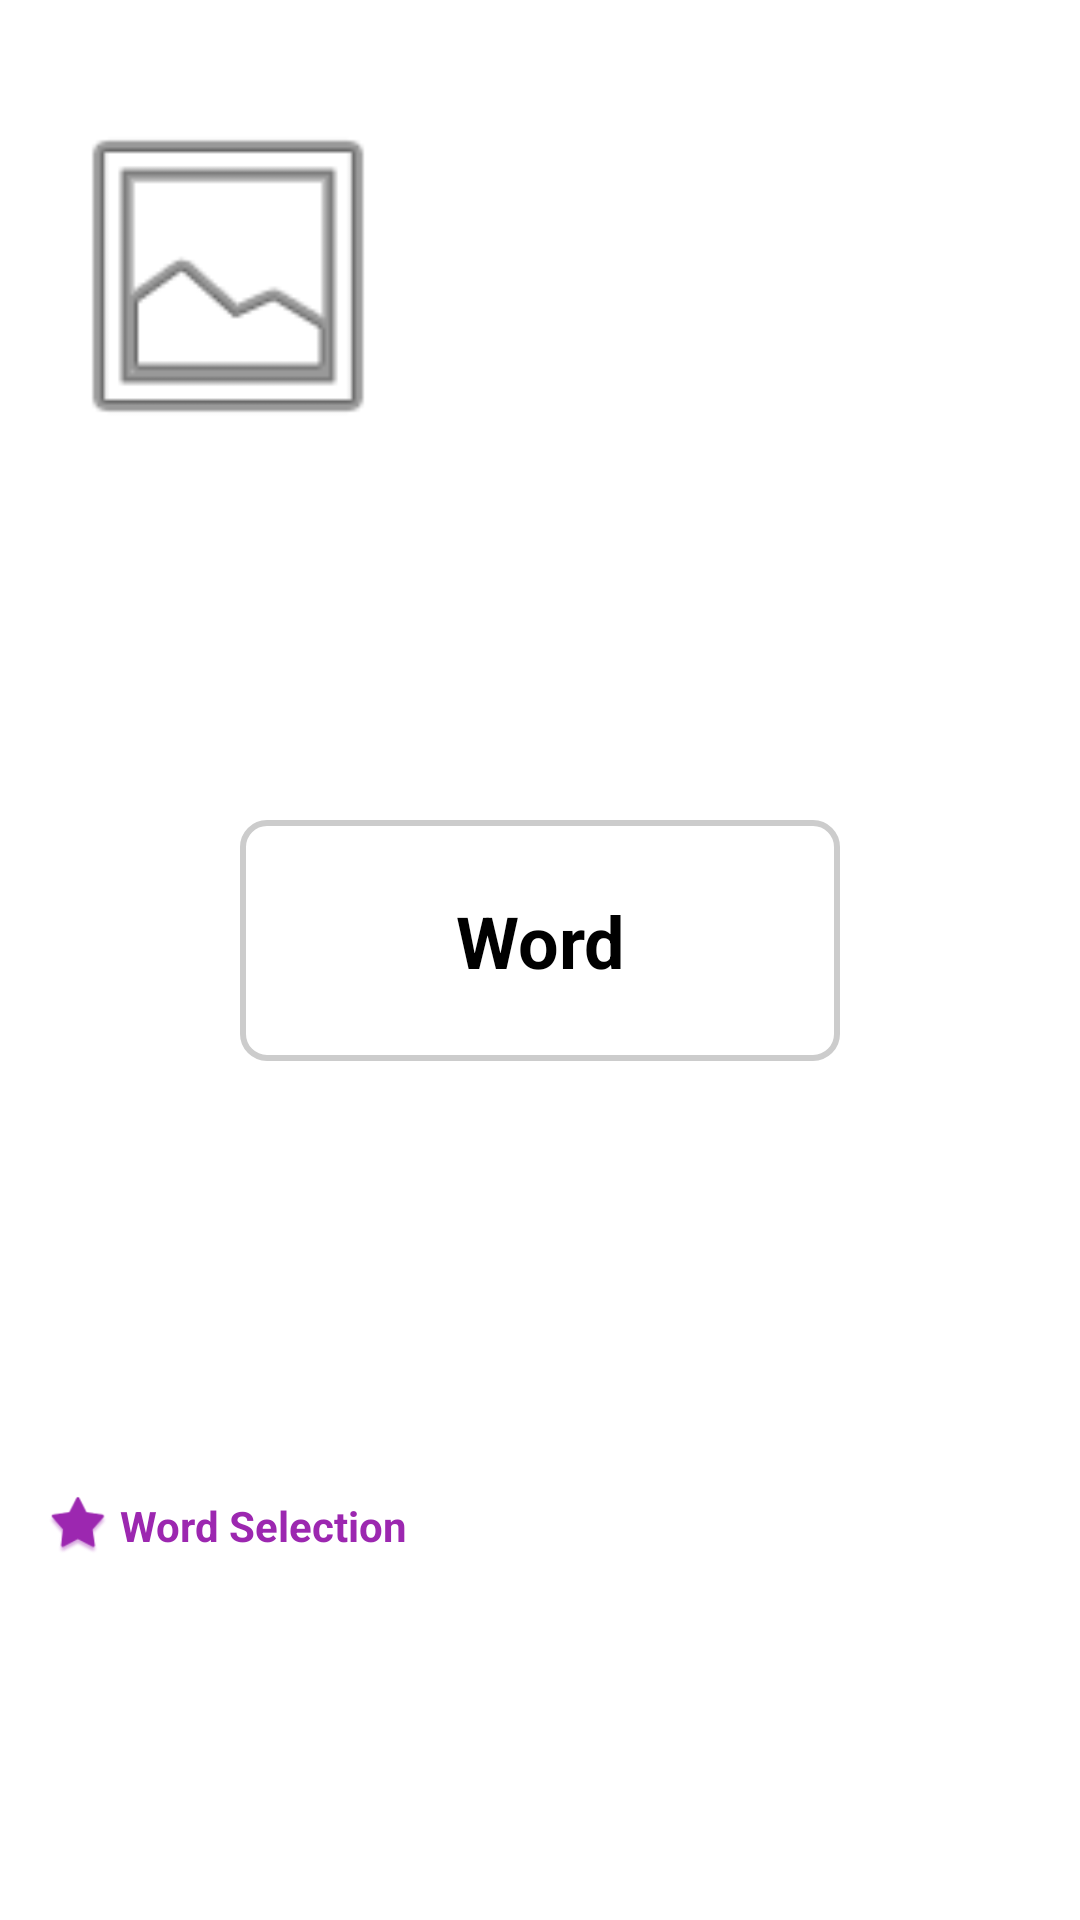

Icon click points for this 1080*1920 phone screenshot, format (x,y):
gallery: (228,276)
star on: (78,1524)
